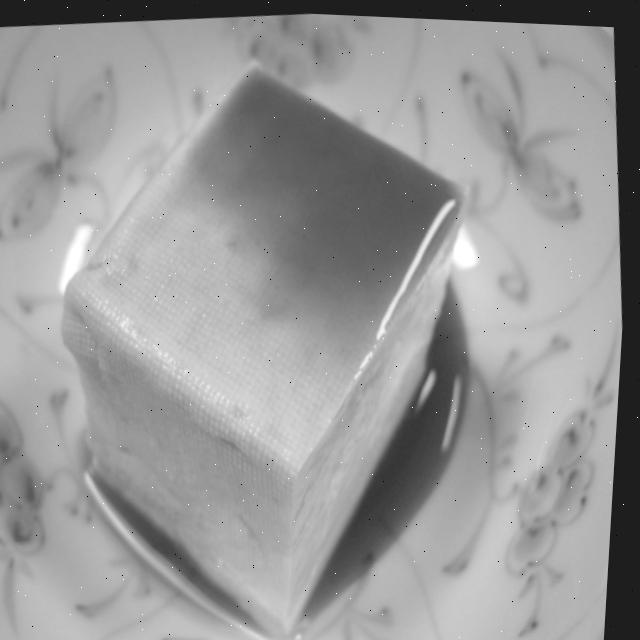豆腐料理: (30, 25, 514, 640)
